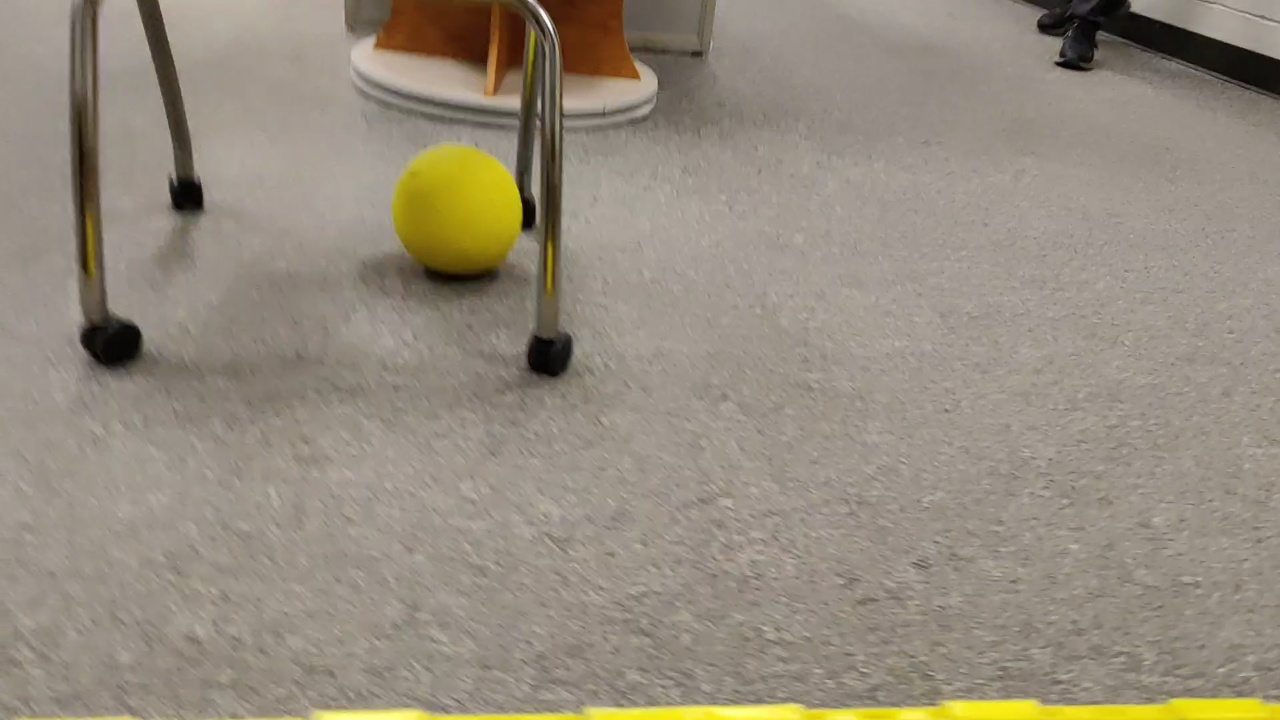Ball: (398, 146, 528, 272)
